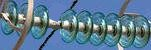gap: (31, 4, 79, 45)
